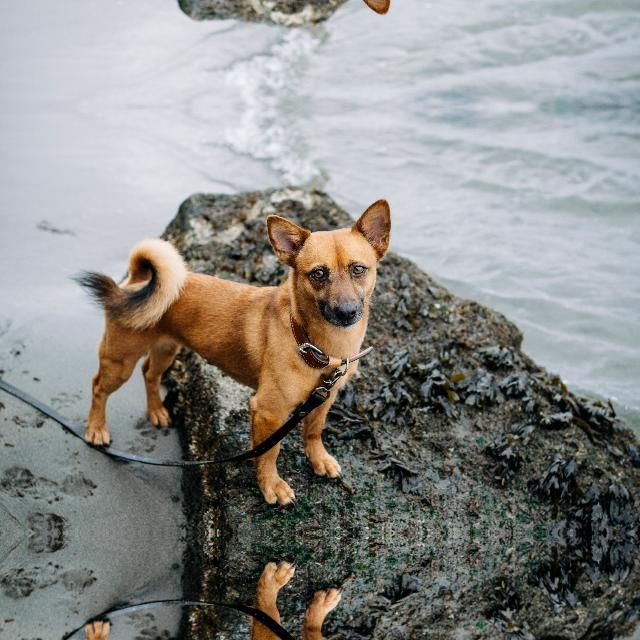dog: (84, 212, 402, 486), (83, 578, 402, 640)
